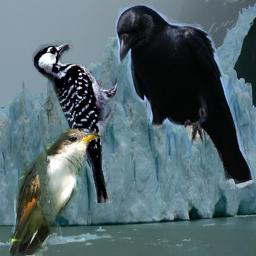Crow: (114, 4, 254, 193)
Cuckoo: (9, 128, 101, 256)
Woodpecker: (32, 39, 117, 203)
